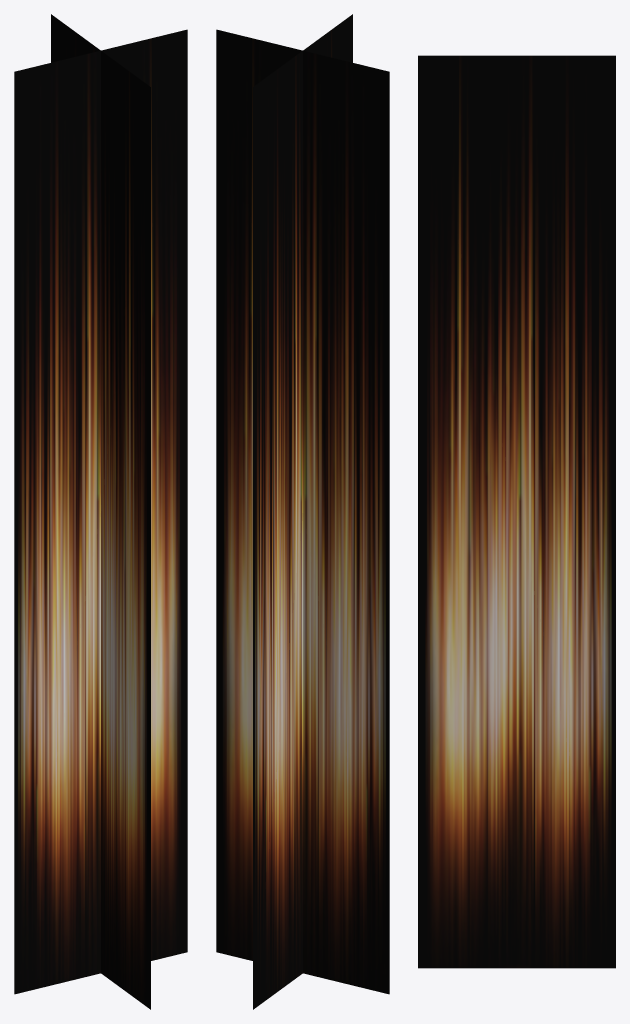
Rendered from fx_fbx_cg_baidian01.FBX.
The picture shows the model from 3 angles, left to right: view 1: azimuth 30°, elevation 25°; view 2: azimuth 150°, elevation 25°; view 3: azimuth 270°, elevation 25°; orthographic projection.
Parts seen in each view (by area): view 1: Plane002; view 2: Plane002; view 3: Plane002.
Boxes of the visible parts, x1,y1,x2,y2 form: Plane002: (14,14,187,1009); Plane002: (216,14,389,1009); Plane002: (418,55,615,968).
Size of the model in its own units: 23.21 by 23.21 by 118.
1 material, 1 textured.
